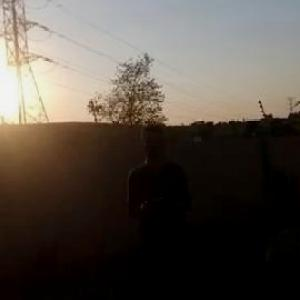follow: (123, 121, 200, 299)
